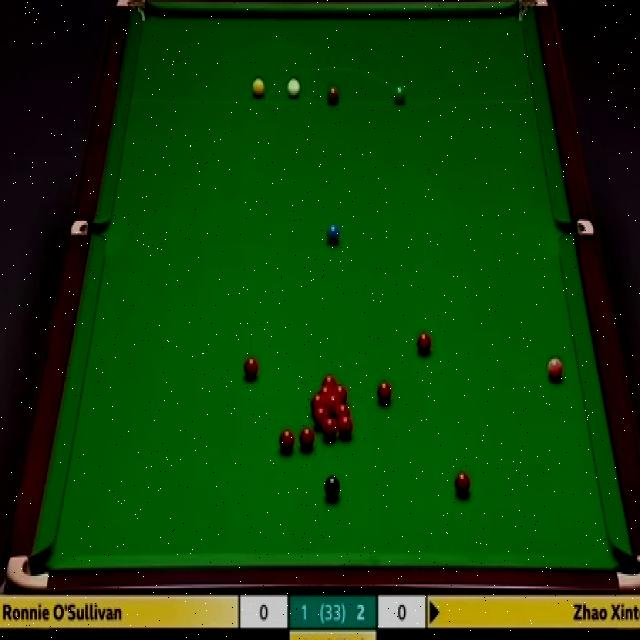black-ball: (324, 476, 341, 500)
blue-ball: (326, 222, 341, 246)
brown-ball: (327, 86, 340, 105)
green-ball: (393, 84, 406, 104)
pink-ball: (546, 356, 565, 384)
red-ball: (454, 471, 472, 497), (415, 333, 433, 358), (376, 380, 391, 406), (281, 426, 297, 450), (243, 356, 258, 381), (322, 416, 338, 439), (299, 428, 314, 452), (338, 414, 353, 438), (313, 407, 328, 426), (331, 385, 348, 401), (334, 404, 350, 418), (326, 394, 340, 409), (310, 394, 326, 406), (321, 374, 338, 385), (318, 385, 335, 394)
white-ball: (287, 75, 302, 98)
yellow-ball: (252, 76, 266, 100)
